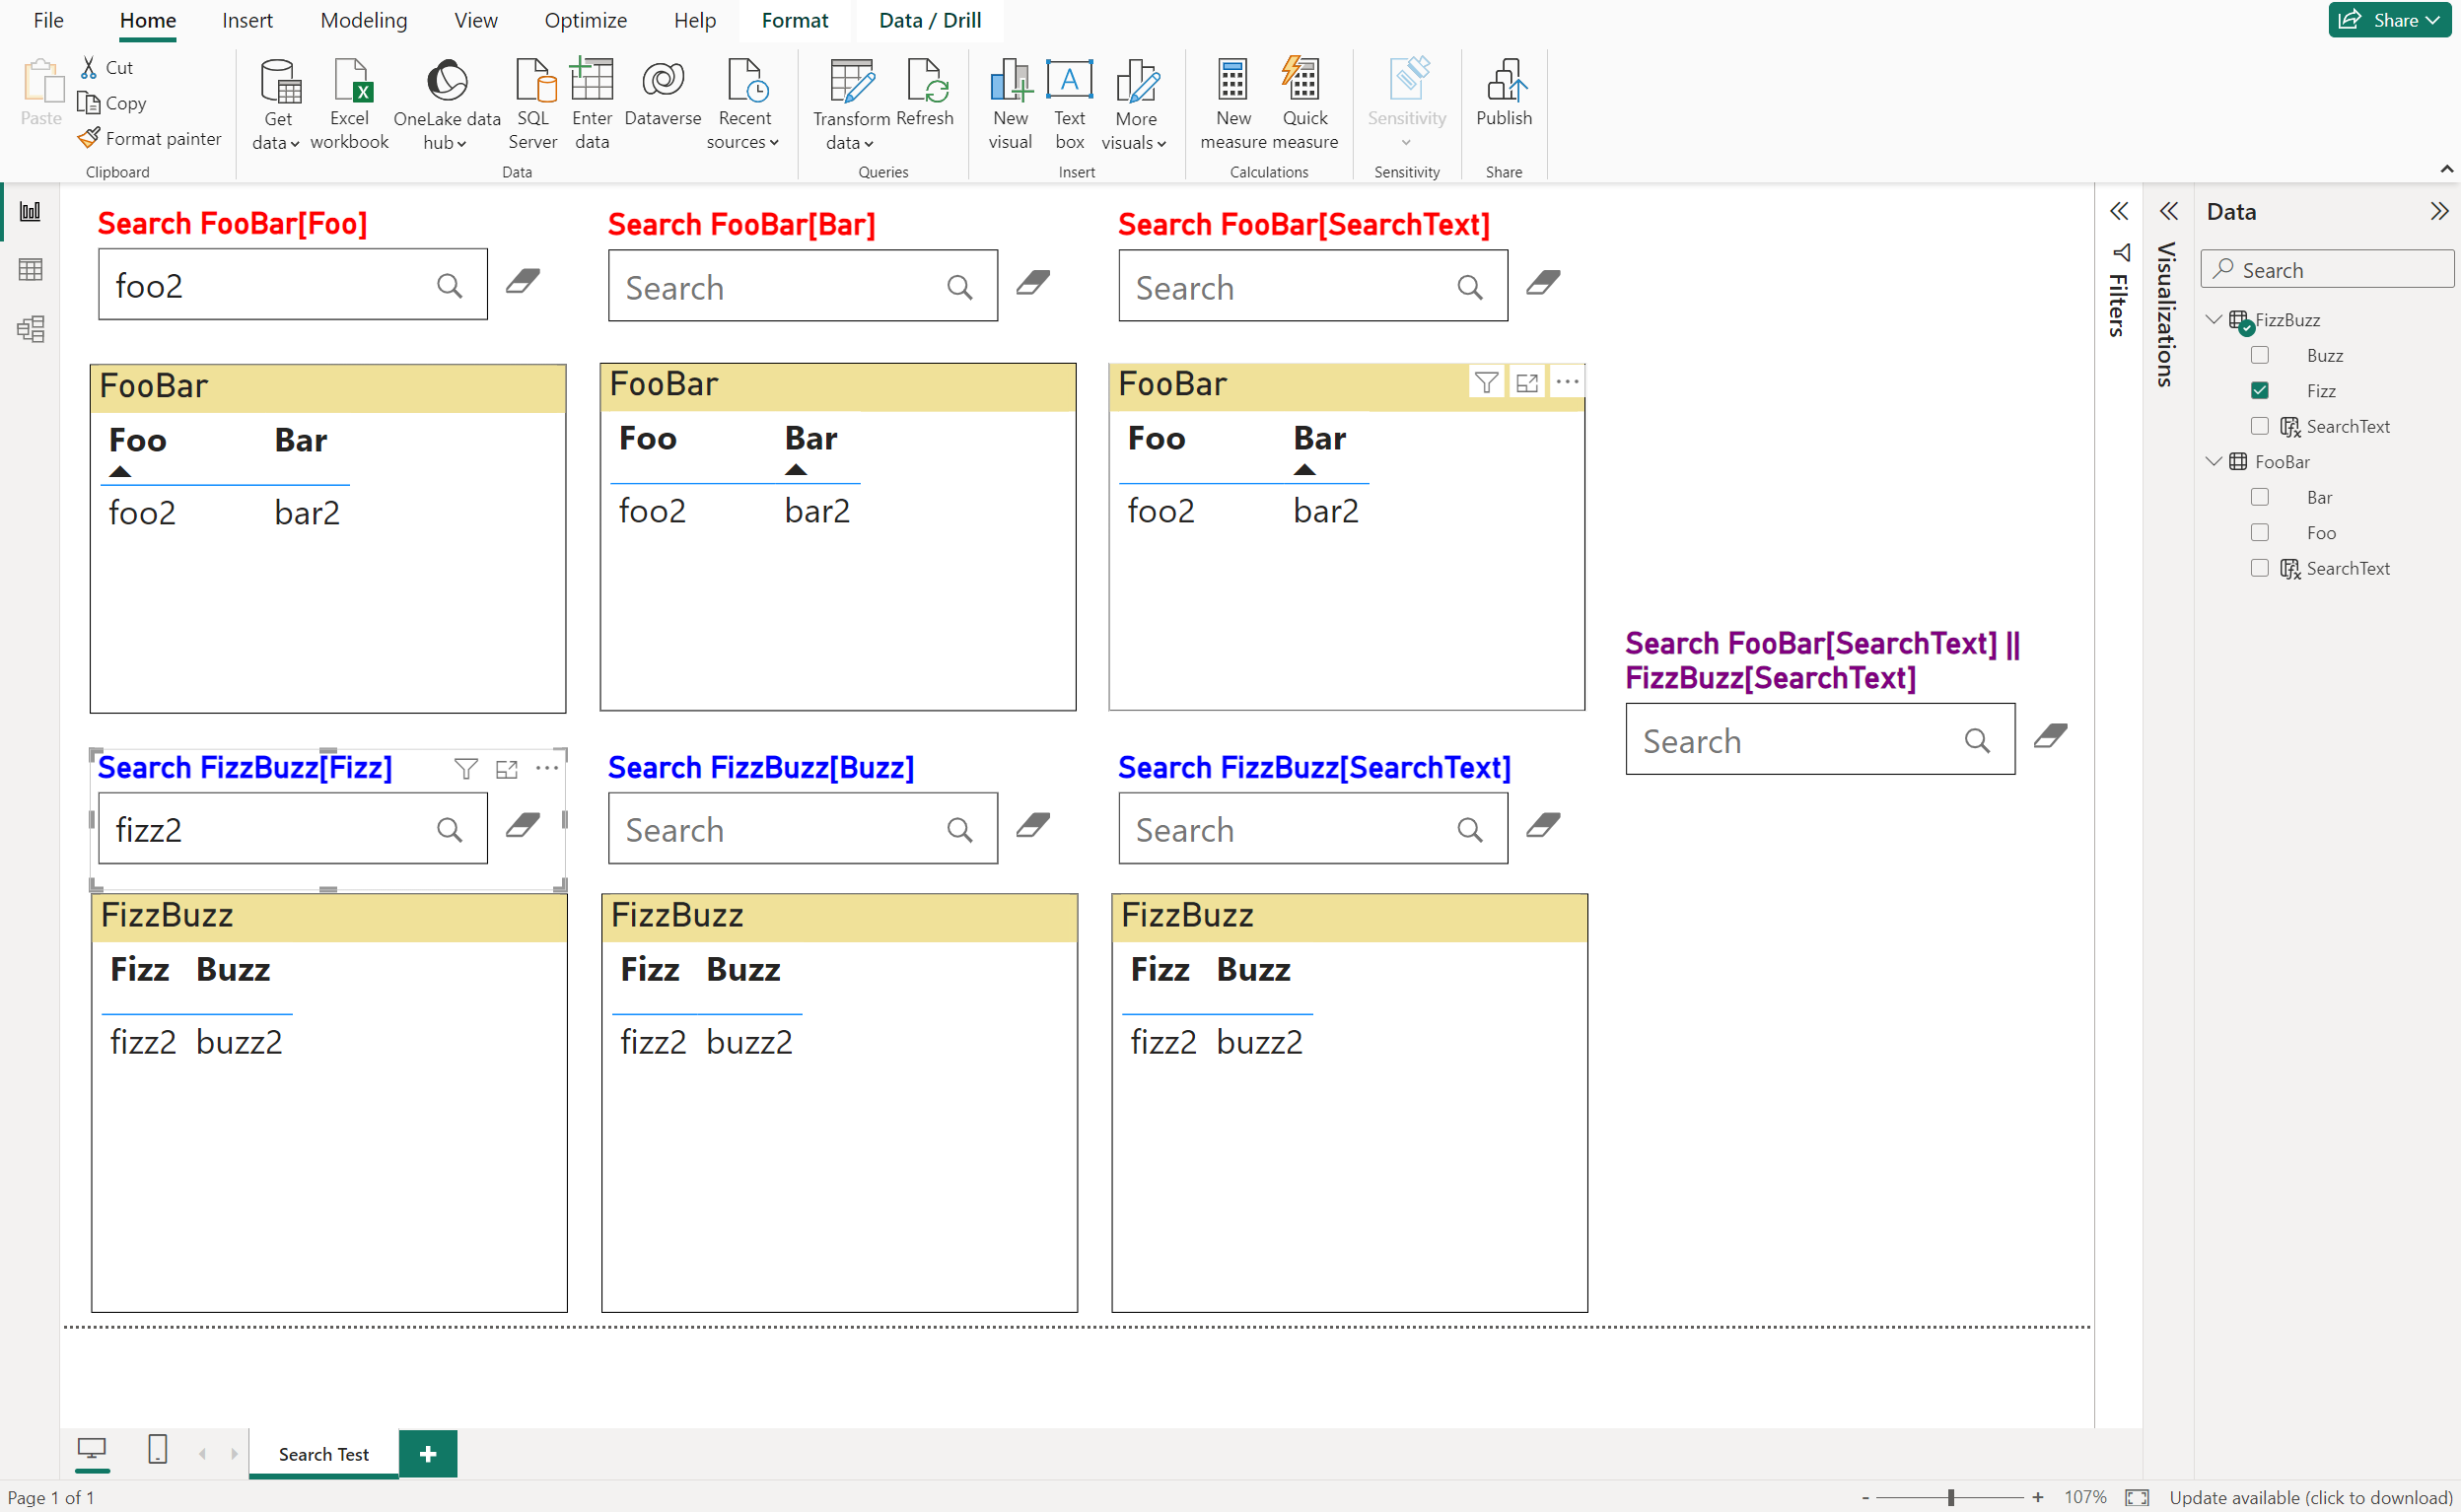

What the dashboard file says about the page in this screenshot:
{"tool":"powerbi","page":{"name":"Search Test","canvas":[1280,720],"ordinal":0},"visuals":[{"type":"tableEx","title":"FooBar","fields":{"Values":["FooBar.Foo","FooBar.Bar"]},"box":[18.7,114.5,299.9,219.7],"z":0},{"type":"textFilter25A4896A83E0487089E2B90C9AE57C8A","title":"Search FooBar[Foo]","fields":{"field":["FooBar.Foo"]},"box":[18.9,14.1,300,90],"z":1000},{"type":"tableEx","title":"FooBar","fields":{"Values":["FooBar.Foo","FooBar.Bar"]},"box":[339.3,113.8,300.3,219.5],"z":2000},{"type":"textFilter25A4896A83E0487089E2B90C9AE57C8A","title":"Search FooBar[Bar]","fields":{"field":["FooBar.Bar"]},"box":[340.1,14.5,300,90],"z":3000},{"type":"tableEx","title":"FooBar","fields":{"Values":["FooBar.Foo","FooBar.Bar"]},"box":[660.1,113.8,300.3,219.5],"z":4000},{"type":"textFilter25A4896A83E0487089E2B90C9AE57C8A","title":"Search FooBar[SearchText]","fields":{"field":["FooBar.SearchText"]},"box":[660.9,14.5,300.3,90],"z":5000},{"type":"tableEx","title":"FizzBuzz","fields":{"Values":["FizzBuzz.Fizz","FizzBuzz.Buzz"]},"box":[19.7,447.8,300.3,264.1],"z":6000},{"type":"textFilter25A4896A83E0487089E2B90C9AE57C8A","title":"Search FizzBuzz[Fizz]","fields":{"field":["FizzBuzz.Fizz"]},"box":[18.4,356.1,300,90],"z":7000},{"type":"tableEx","title":"FizzBuzz","fields":{"Values":["FizzBuzz.Fizz","FizzBuzz.Buzz"]},"box":[340.5,447.8,300.3,264.1],"z":8000},{"type":"textFilter25A4896A83E0487089E2B90C9AE57C8A","title":"Search FizzBuzz[Buzz]","fields":{"field":["FizzBuzz.Buzz"]},"box":[339.6,356.5,300,90],"z":9000},{"type":"tableEx","title":"FizzBuzz","fields":{"Values":["FizzBuzz.Fizz","FizzBuzz.Buzz"]},"box":[661.3,447.8,300.3,264.1],"z":10000},{"type":"textFilter25A4896A83E0487089E2B90C9AE57C8A","title":"Search FizzBuzz[SearchText]","fields":{"field":["FizzBuzz.SearchText"]},"box":[660.5,356.5,300.3,90],"z":11000},{"type":"textFilterRSe8c12c3a530441bf833d876d17d39dda","title":"Search FooBar[SearchText] || FizzBuzz[SearchText]","fields":{"field":["Min(FooBar.SearchText)","Min(FizzBuzz.SearchText)"]},"box":[979.8,278,299.9,105.2],"z":11001}]}

Visuals, with their boxes on the page's 1280x720 design canvas (x1, y1, x2, y2). These are canvas units, not pixel positions in the 2461x1512 screenshot, which may show the page scaled, cropped or inside an application window:
"FooBar" tableEx: (left=19, top=114, right=319, bottom=334)
"Search FooBar[Foo]" textFilter25A4896A83E0487089E2B90C9AE57C8A: (left=19, top=14, right=319, bottom=104)
"FooBar" tableEx: (left=339, top=114, right=640, bottom=333)
"Search FooBar[Bar]" textFilter25A4896A83E0487089E2B90C9AE57C8A: (left=340, top=14, right=640, bottom=104)
"FooBar" tableEx: (left=660, top=114, right=960, bottom=333)
"Search FooBar[SearchText]" textFilter25A4896A83E0487089E2B90C9AE57C8A: (left=661, top=14, right=961, bottom=104)
"FizzBuzz" tableEx: (left=20, top=448, right=320, bottom=712)
"Search FizzBuzz[Fizz]" textFilter25A4896A83E0487089E2B90C9AE57C8A: (left=18, top=356, right=318, bottom=446)
"FizzBuzz" tableEx: (left=340, top=448, right=641, bottom=712)
"Search FizzBuzz[Buzz]" textFilter25A4896A83E0487089E2B90C9AE57C8A: (left=340, top=356, right=640, bottom=446)
"FizzBuzz" tableEx: (left=661, top=448, right=962, bottom=712)
"Search FizzBuzz[SearchText]" textFilter25A4896A83E0487089E2B90C9AE57C8A: (left=660, top=356, right=961, bottom=446)
"Search FooBar[SearchText] || FizzBuzz[SearchText]" textFilterRSe8c12c3a530441bf833d876d17d39dda: (left=980, top=278, right=1280, bottom=383)
